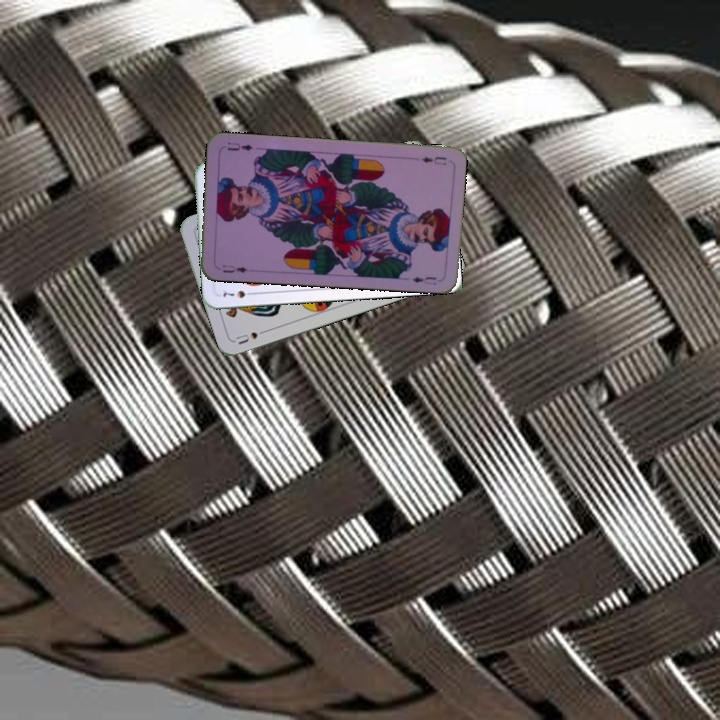EU: (218, 260, 250, 275), (417, 152, 449, 167)
S7: (219, 286, 257, 301)
SU: (232, 325, 271, 347)
